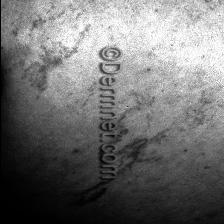Toxin: (18, 24, 88, 90)
